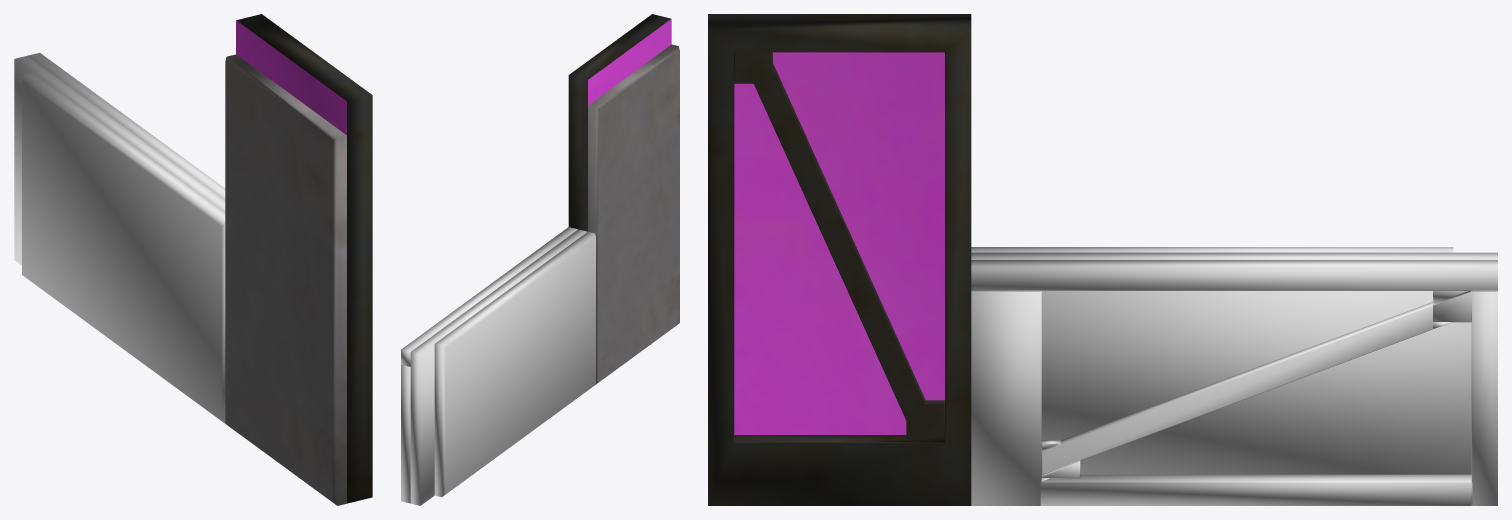
File: SM_Wall_Half_Small.fbx
3 views of the same model, side by side, from view 1: azimuth 30°, elevation 25°; view 2: azimuth 150°, elevation 25°; view 3: azimuth 270°, elevation 25° (orthographic). The views are drawn at different scales.
Parts seen in each view (by area): view 1: SM_Wall_Half_Small, SM_Wall_Half_Small_ConvexHulls; view 2: SM_Wall_Half_Small_ConvexHulls, SM_Wall_Half_Small; view 3: SM_Wall_Half_Small_ConvexHulls, SM_Wall_Half_Small.
Boxes of the visible parts, left/top/right/bottom form: SM_Wall_Half_Small: left=225, top=14, right=372, bottom=505; SM_Wall_Half_Small_ConvexHulls: left=14, top=52, right=225, bottom=423; SM_Wall_Half_Small_ConvexHulls: left=401, top=227, right=595, bottom=505; SM_Wall_Half_Small: left=568, top=14, right=679, bottom=384; SM_Wall_Half_Small_ConvexHulls: left=971, top=247, right=1497, bottom=505; SM_Wall_Half_Small: left=708, top=14, right=971, bottom=505.
Bounding box in the file's own units: 0.3 × 3 × 4.5.
